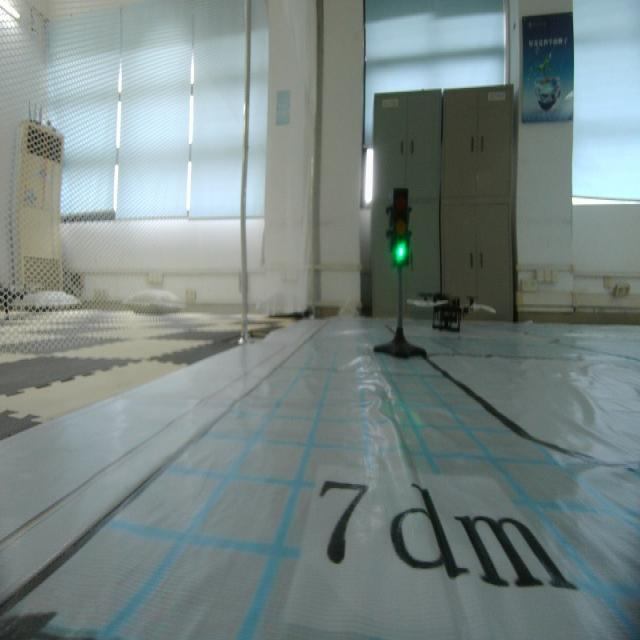green: (388, 189, 412, 271)
